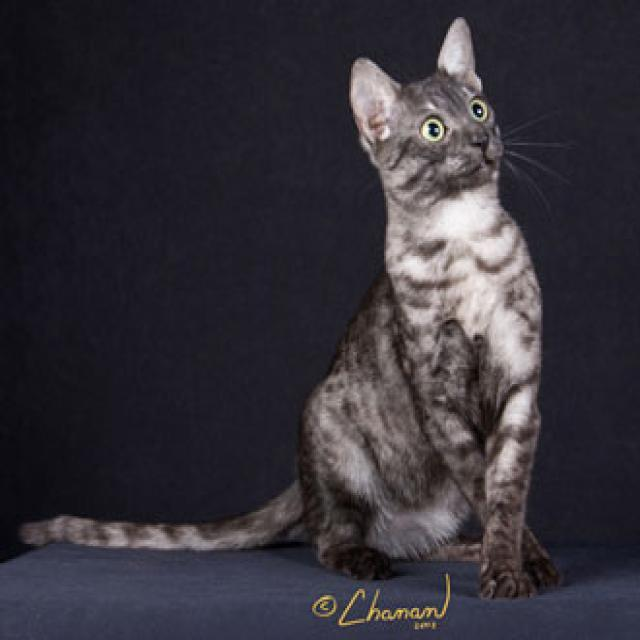Egyptian_Mau: (348, 13, 501, 200)
